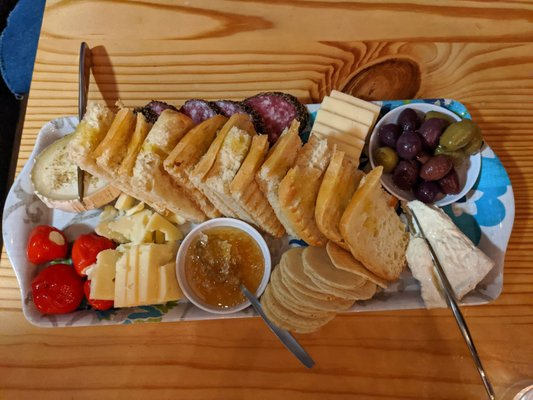salad: (238, 281, 317, 370)
sandwich: (404, 202, 496, 399)
soup: (160, 110, 290, 242), (339, 165, 411, 283)
sushi: (365, 99, 483, 208), (175, 218, 272, 314)
